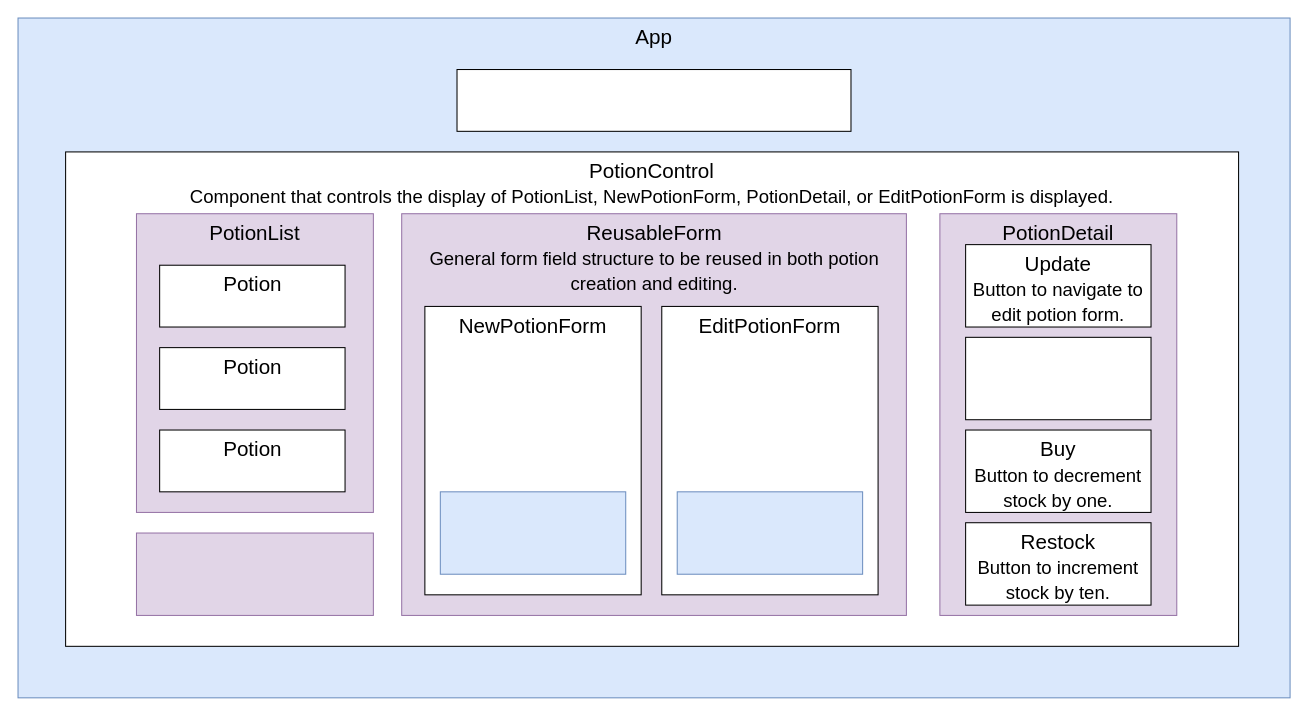
The diagram is 1308 pixels wide and 716 high, and some of its shapes have lost their labels. The centre of each missing label's shape, as x and y in pixels:
"AddPotion Button that shows NewPotionForm." goes at point 254,573.
"Delete Button to remove potion from list." goes at point 1058,378.
"Edit Button to update existing potion" goes at point 769,532.
"Header" goes at point 653,99.
"Submit Button to add potion to list." goes at point 532,532.
